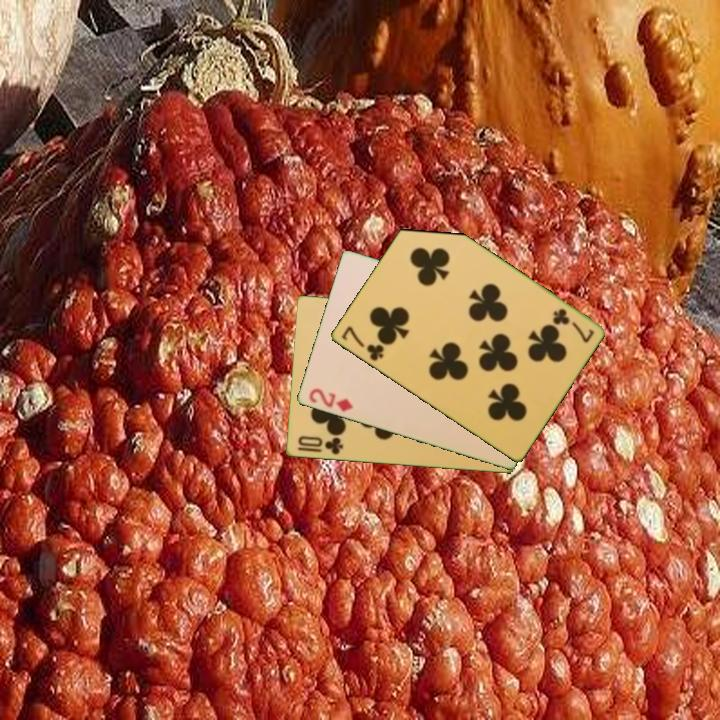10c: (294, 432, 346, 458)
2d: (305, 385, 355, 415)
7c: (337, 323, 387, 364), (548, 305, 597, 346)
